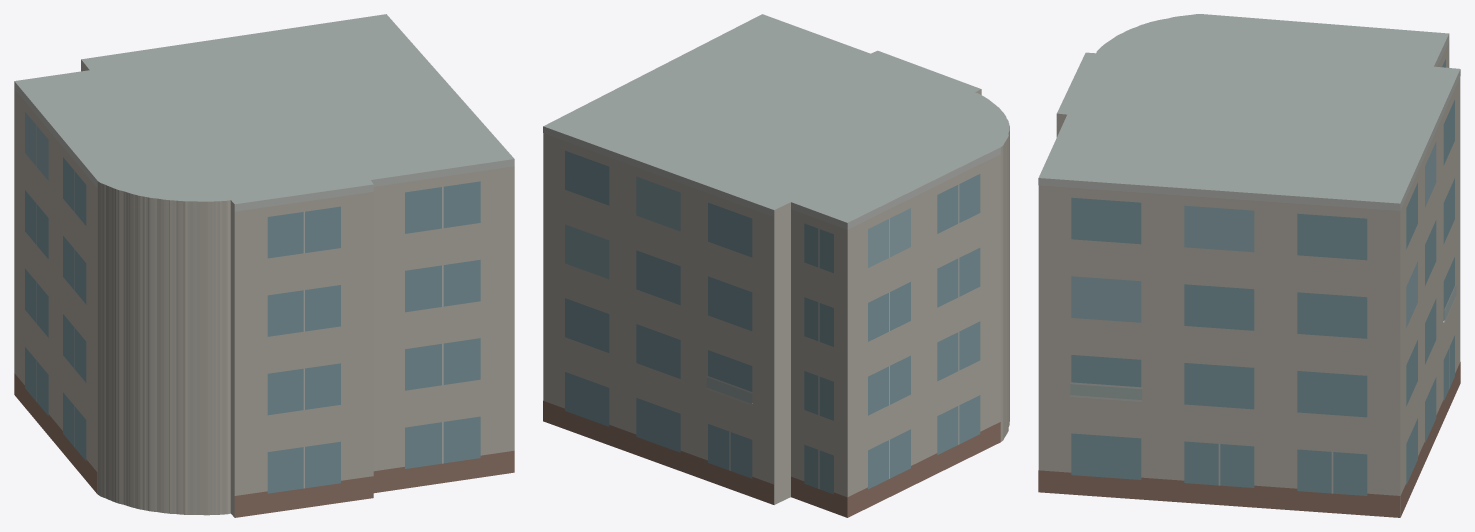
Rendered from survey-upis-32660183.glb.
3 renders of one model, left to right at view 1: azimuth 30°, elevation 25°; view 2: azimuth 150°, elevation 25°; view 3: azimuth 270°, elevation 25°, orthographic. The views are drawn at different scales.
Parts seen in each view (by area): view 1: survey-upis-32660183.tmp; view 2: survey-upis-32660183.tmp; view 3: survey-upis-32660183.tmp.
Boxes of the visible parts, left/top/right/bottom form: survey-upis-32660183.tmp: left=14, top=14, right=514, bottom=517; survey-upis-32660183.tmp: left=543, top=14, right=1009, bottom=517; survey-upis-32660183.tmp: left=1038, top=14, right=1460, bottom=517.
Bounding box in the file's own units: 13.59 × 10.5 × 12.79.
